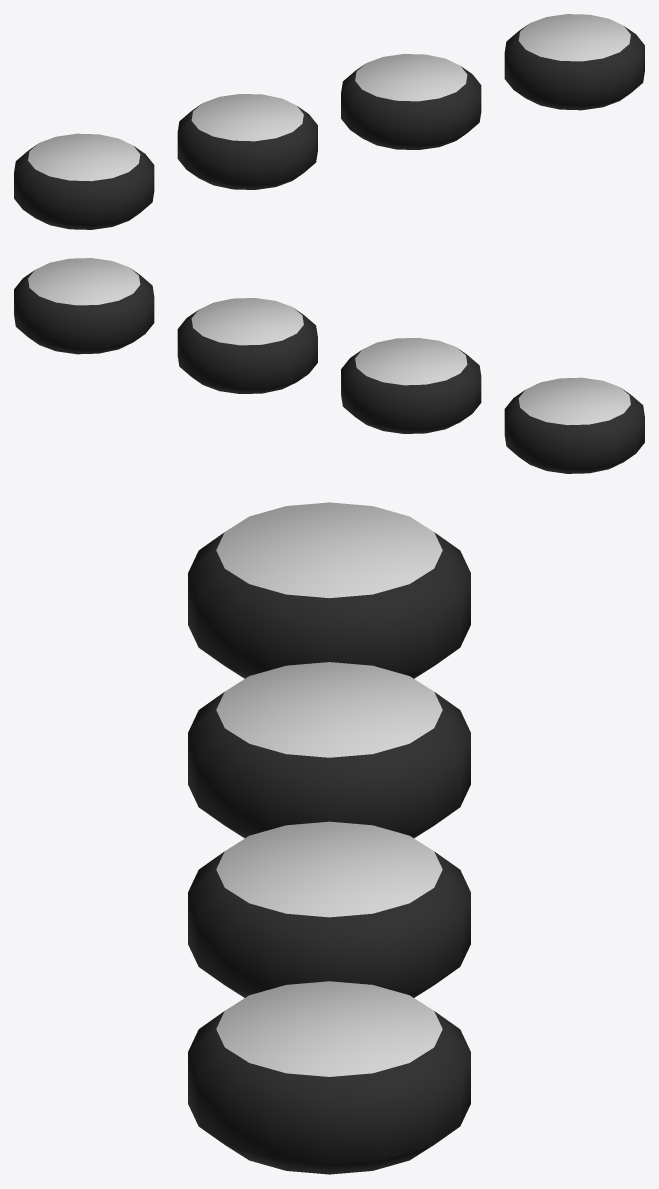
Rendered from VR-HOCKEY-PUCKS.fbx.
3 views of the same model, one above another, from view 1: azimuth 30°, elevation 25°; view 2: azimuth 150°, elevation 25°; view 3: azimuth 270°, elevation 25° (orthographic). The views are drawn at different scales.
Parts seen in each view (by area): view 1: PUCK4, PUCK1, PUCK3, PUCK2; view 2: PUCK4, PUCK1, PUCK3, PUCK2; view 3: PUCK4, PUCK1, PUCK3, PUCK2.
Boxes of the visible parts, left/top/right/bottom form: PUCK4: left=504, top=14, right=644, bottom=110; PUCK1: left=14, top=133, right=154, bottom=229; PUCK3: left=341, top=54, right=481, bottom=149; PUCK2: left=177, top=94, right=317, bottom=189; PUCK4: left=14, top=258, right=154, bottom=354; PUCK1: left=504, top=377, right=644, bottom=473; PUCK3: left=177, top=298, right=317, bottom=393; PUCK2: left=341, top=338, right=481, bottom=433; PUCK4: left=188, top=981, right=470, bottom=1174; PUCK1: left=188, top=502, right=470, bottom=678; PUCK3: left=188, top=821, right=470, bottom=997; PUCK2: left=188, top=662, right=470, bottom=838.
Size of the model in its own units: 3 by 0.228 by 0.6.
